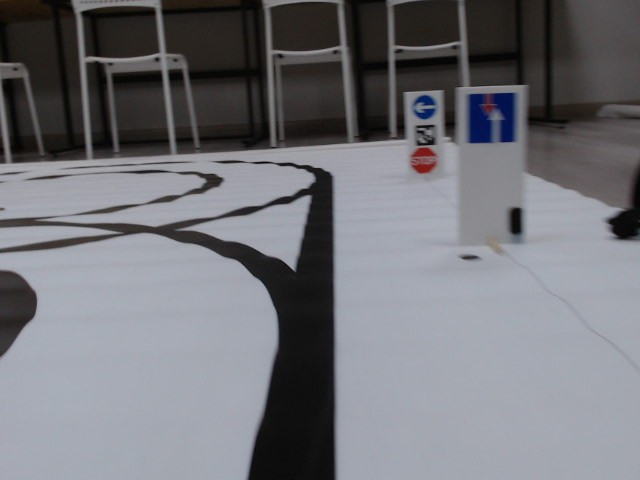Stop: (409, 147, 437, 173)
priority_movement: (463, 90, 520, 145)
